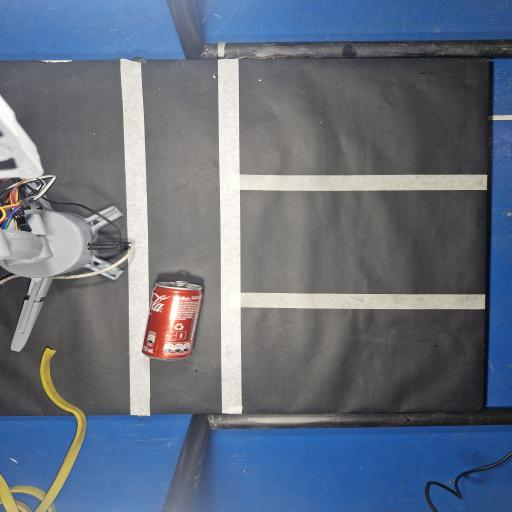lata: (143, 281, 202, 360)
